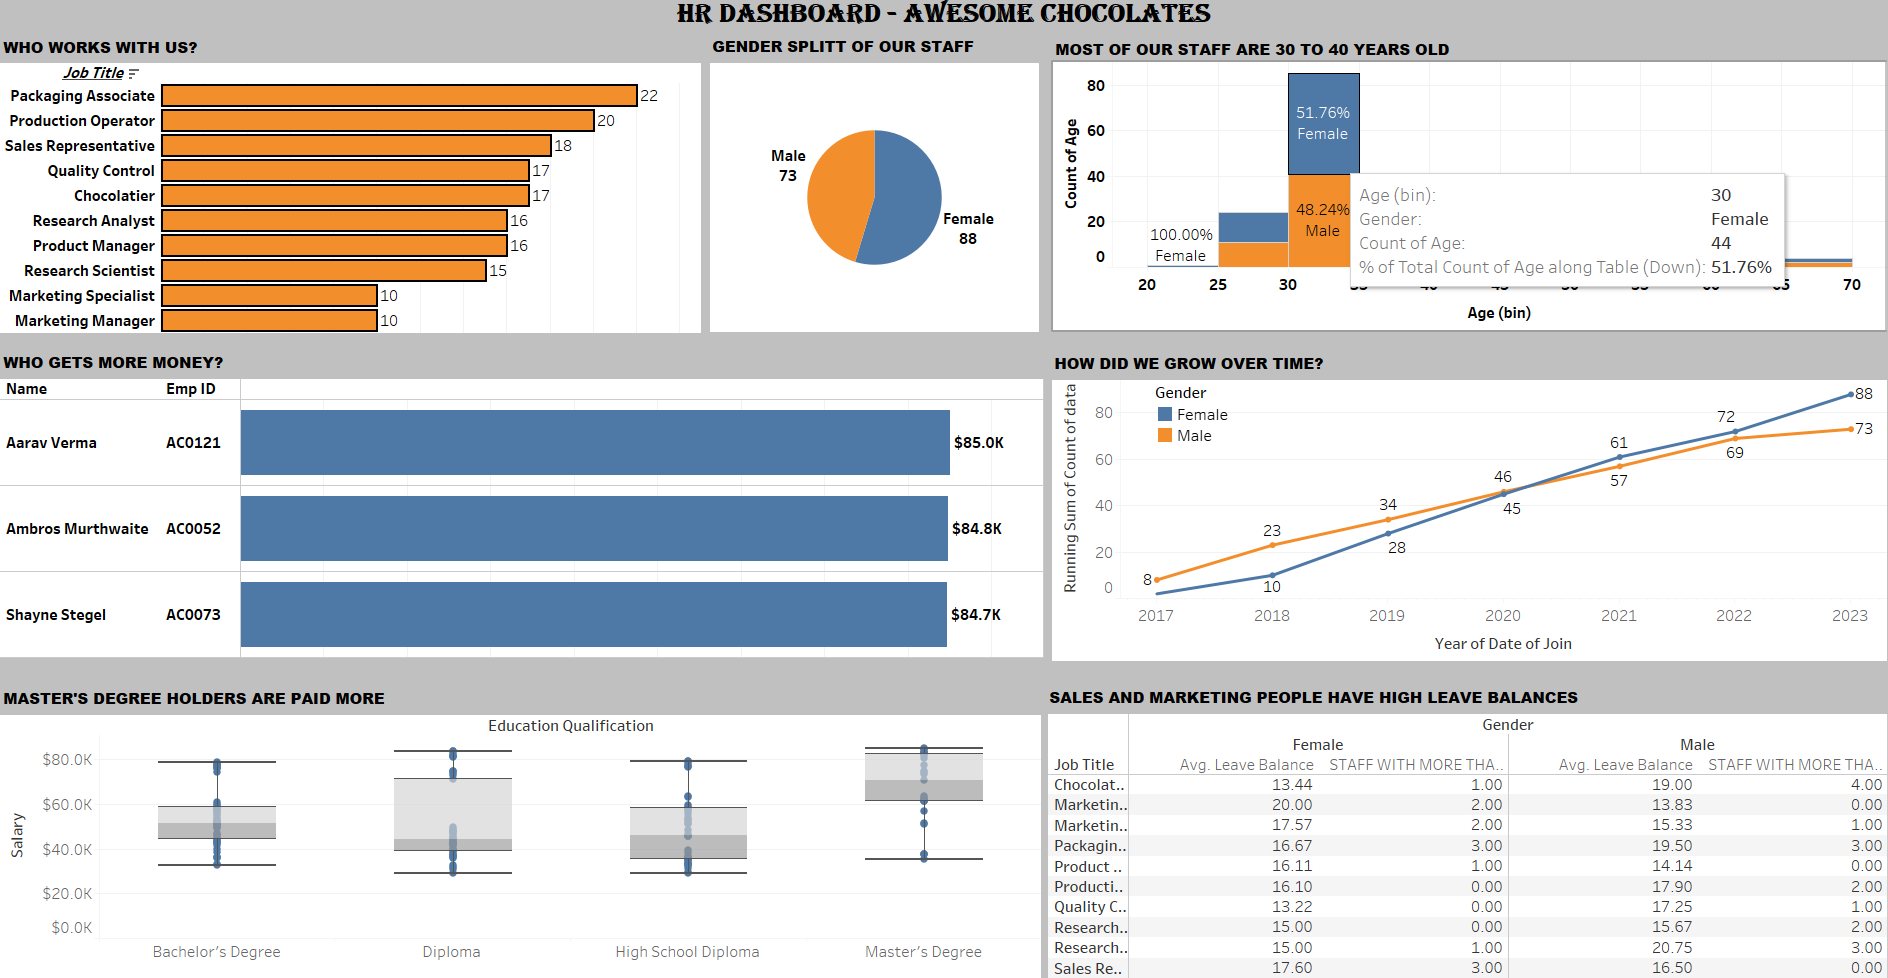

Layout of this report page (visuals, bound fields, positions):
{"tool":"tableau","page":{"name":"HR DASHBOARD","canvas":[1000,1000],"units":"permille","ordinal":0},"visuals":[{"type":"text","box":[375.4,33.6,162.3,30.6]},{"type":"text","box":[0,34.7,121.3,30.6]},{"type":"text","box":[557,36.7,242,30.6]},{"type":"worksheet","title":"AGE SPREAD OF OUR STAFF","mark":"Automatic","rows":["Age"],"cols":["Age (bin)"],"box":[557.6,65.2,441.8,273.2]},{"type":"worksheet","title":"PEOPLE/JOB","mark":"Automatic","rows":["Job Title"],"cols":["data_D4A648E94E3146C8819AF2B790BA10DE"],"box":[0,66.3,371.2,275.2]},{"type":"worksheet","title":"GENDER DISTRIBUTION","mark":"Pie","box":[376,66.3,174.4,274.2]},{"type":"text","box":[0,355.8,137,30.6]},{"type":"text","box":[556.4,356.8,166.6,30.6]},{"type":"worksheet","title":"TOP EARNERS BY JOB","mark":"Automatic","rows":["Name","Emp ID"],"cols":["Salary"],"box":[0,388.4,552.8,284.4]},{"type":"worksheet","title":"STAFF GROWTH","mark":"Automatic","rows":["data_D4A648E94E3146C8819AF2B790BA10DE"],"cols":["Date of Join"],"box":[557,389.4,442.4,286.4]},{"type":"legend","title":"STAFF GROWTH","param":"[federated.0jpnapl1wr2fem13y5pj103dtijs].[none:Gender:nk]","box":[612,391.4,92.9,65.2]},{"type":"text","box":[554,697.2,323.5,30.6]},{"type":"text","box":[0,698.3,234.8,30.6]},{"type":"worksheet","title":"LEAVE BALANCE ANALYSIS","mark":"Automatic","rows":["Job Title"],"cols":["Gender"],"box":[555.2,729.9,444.8,270.1]}]}

Visuals, with their boxes on the dashboard's canvas, which has no fixed pixel size, in thousandths of its width and height (x1, y1, x2, y2). These are canvas units, not pixel positions in the 1888x978 screenshot, which may show the page scaled, cropped or inside an application window:
text: select_region(375, 34, 538, 64)
text: select_region(0, 35, 121, 65)
text: select_region(557, 37, 799, 67)
"AGE SPREAD OF OUR STAFF" worksheet: select_region(558, 65, 999, 338)
"PEOPLE/JOB" worksheet: select_region(0, 66, 371, 342)
"GENDER DISTRIBUTION" worksheet (Pie marks): select_region(376, 66, 550, 340)
text: select_region(0, 356, 137, 386)
text: select_region(556, 357, 723, 387)
"TOP EARNERS BY JOB" worksheet: select_region(0, 388, 553, 673)
"STAFF GROWTH" worksheet: select_region(557, 389, 999, 676)
"STAFF GROWTH" legend: select_region(612, 391, 705, 457)
text: select_region(554, 697, 878, 728)
text: select_region(0, 698, 235, 729)
"LEAVE BALANCE ANALYSIS" worksheet: select_region(555, 730, 1000, 1000)
